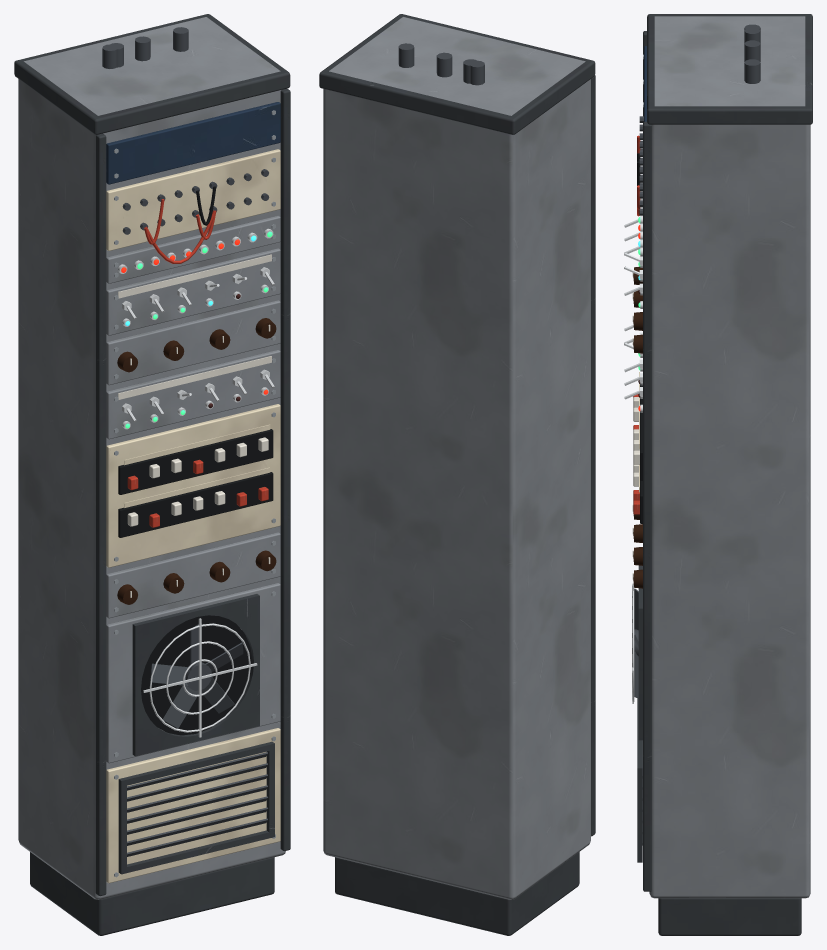
Rendered from Rack_50_6.glb.
3 views of the same model, side by side, from view 1: azimuth 30°, elevation 25°; view 2: azimuth 150°, elevation 25°; view 3: azimuth 270°, elevation 25° (orthographic).
Parts seen in each view (by area): view 1: Rack_50_6_Body; view 2: Rack_50_6_Body; view 3: Rack_50_6_Body.
Part boxes in pixels (x1,y1,x2,y2): Rack_50_6_Body: (14,14,290,935); Rack_50_6_Body: (319,14,595,935); Rack_50_6_Body: (624,14,812,935).
Bounding box in the file's own units: 0.51 × 2.1 × 0.4216.
Materials: 15 (6 with a texture image).
